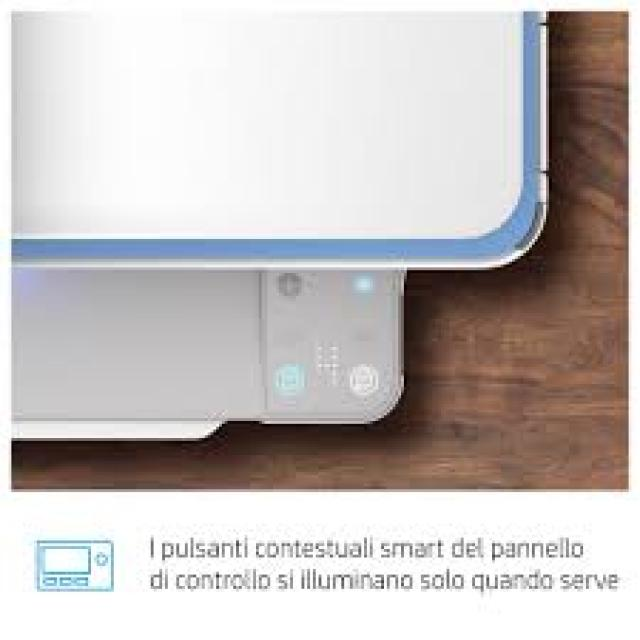printer: (6, 0, 552, 441)
